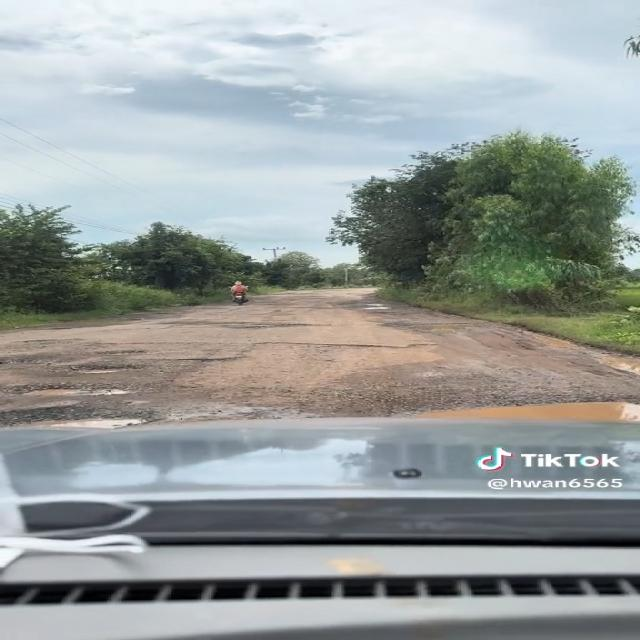Poth-hole: (234, 334, 442, 365)
